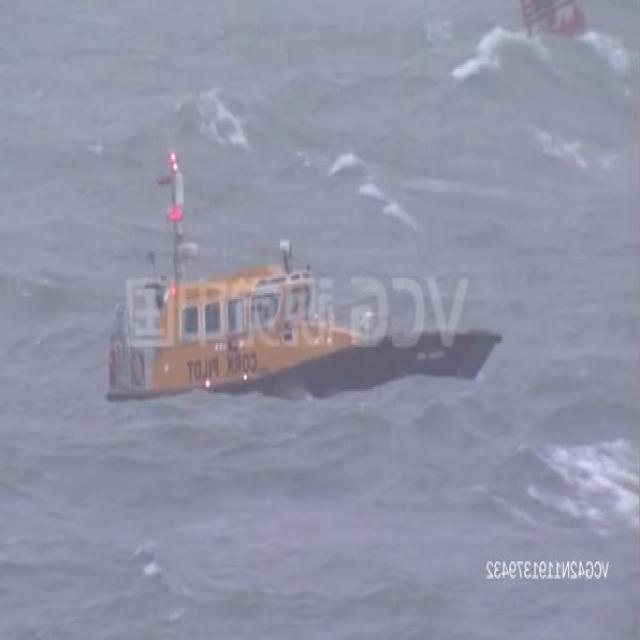houseboat: (102, 162, 511, 416)
